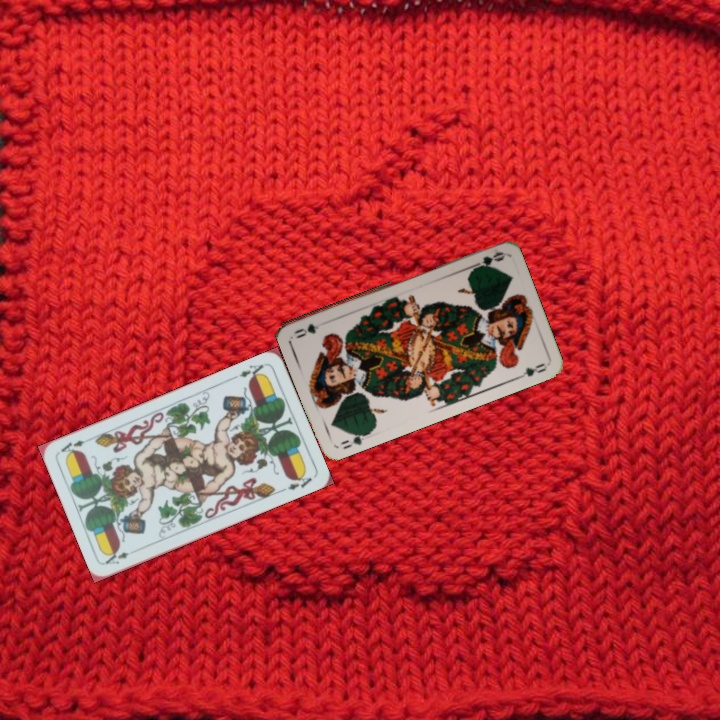EA: (235, 360, 268, 383), (101, 547, 132, 567)
GO: (466, 247, 506, 274), (337, 429, 372, 452)
